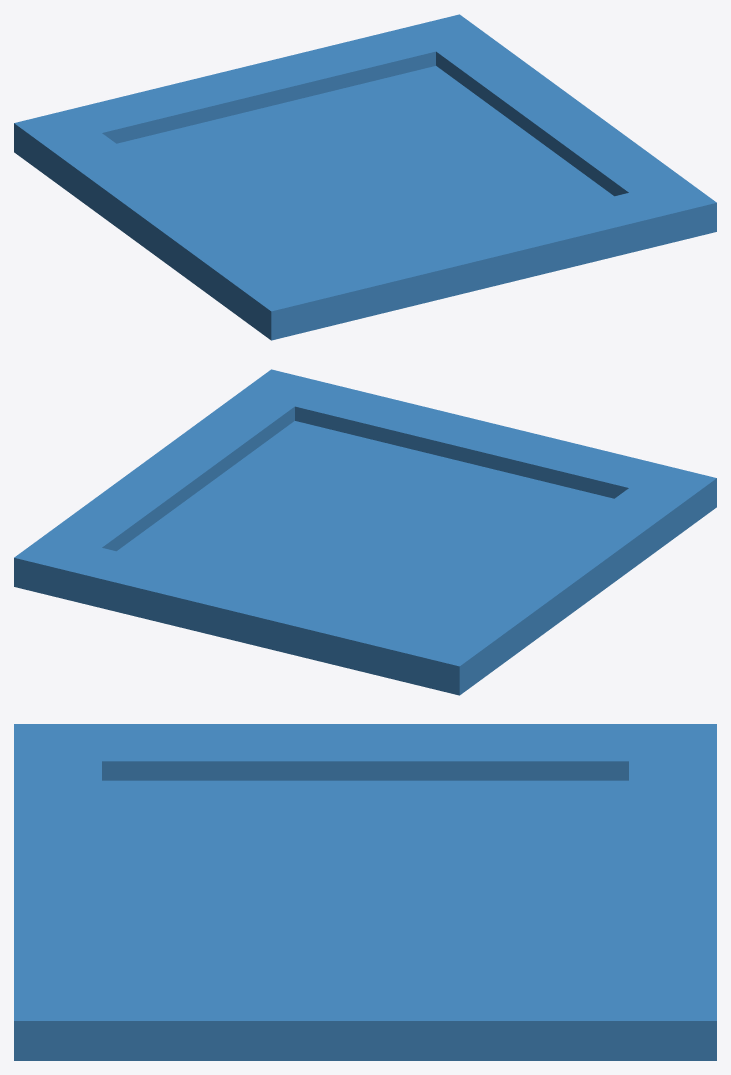
The model's file is Deco_Planter_B.fbx.
3 renders of one model, top to bottom at view 1: azimuth 30°, elevation 25°; view 2: azimuth 150°, elevation 25°; view 3: azimuth 270°, elevation 25°, orthographic. The views are drawn at different scales.
Visible parts, largest first — view 1: Deco_Planter_B; view 2: Deco_Planter_B; view 3: Deco_Planter_B.
Part boxes in pixels (left/top/right/bottom): Deco_Planter_B: left=14, top=14, right=716, bottom=340; Deco_Planter_B: left=14, top=369, right=716, bottom=695; Deco_Planter_B: left=14, top=724, right=716, bottom=1060.
Bounding box in the file's own units: 120 × 7.5 × 120.
